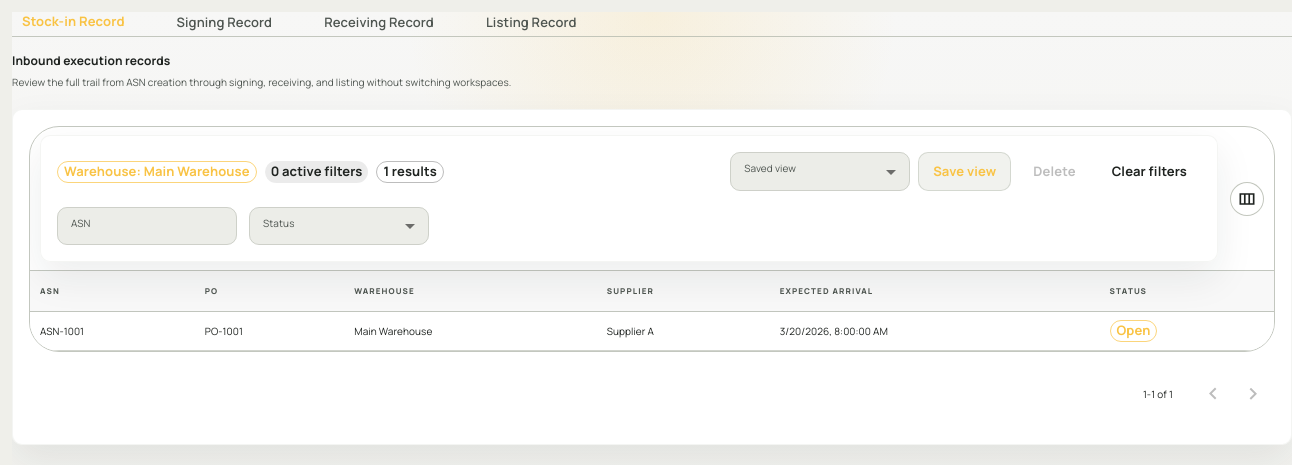
Test: renders record subpages from the grouped inbound records page
Expected: the text "ASN-1001" is shown, [30, 312, 195, 351]
What coordinates should you click on to do the following:
click the tab "Receiving Record"
I would click on:
 (379, 22)
Its box is [314, 12, 444, 32].
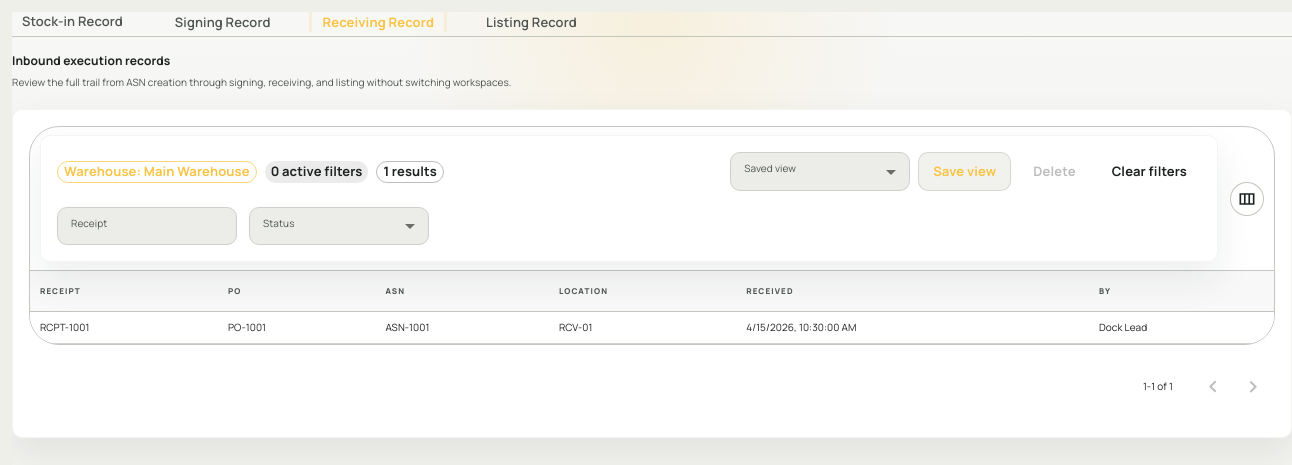
Expected: the text "RCPT-1001" is shown, [30, 312, 218, 343]
